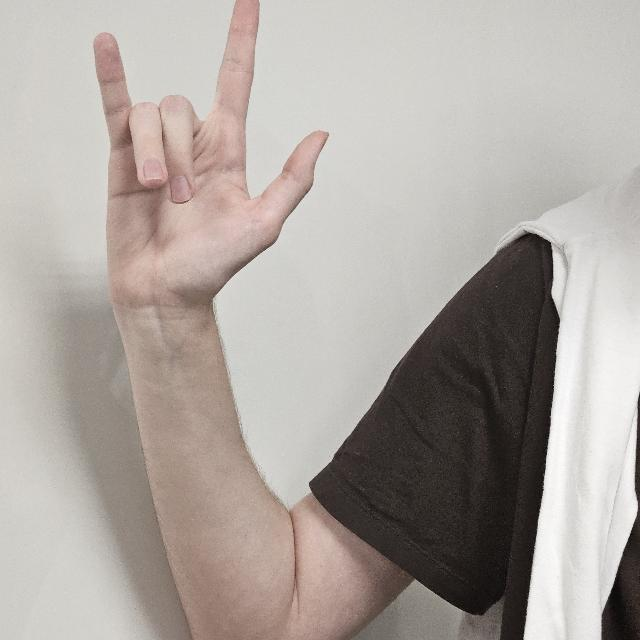Cima: (80, 2, 336, 316)
